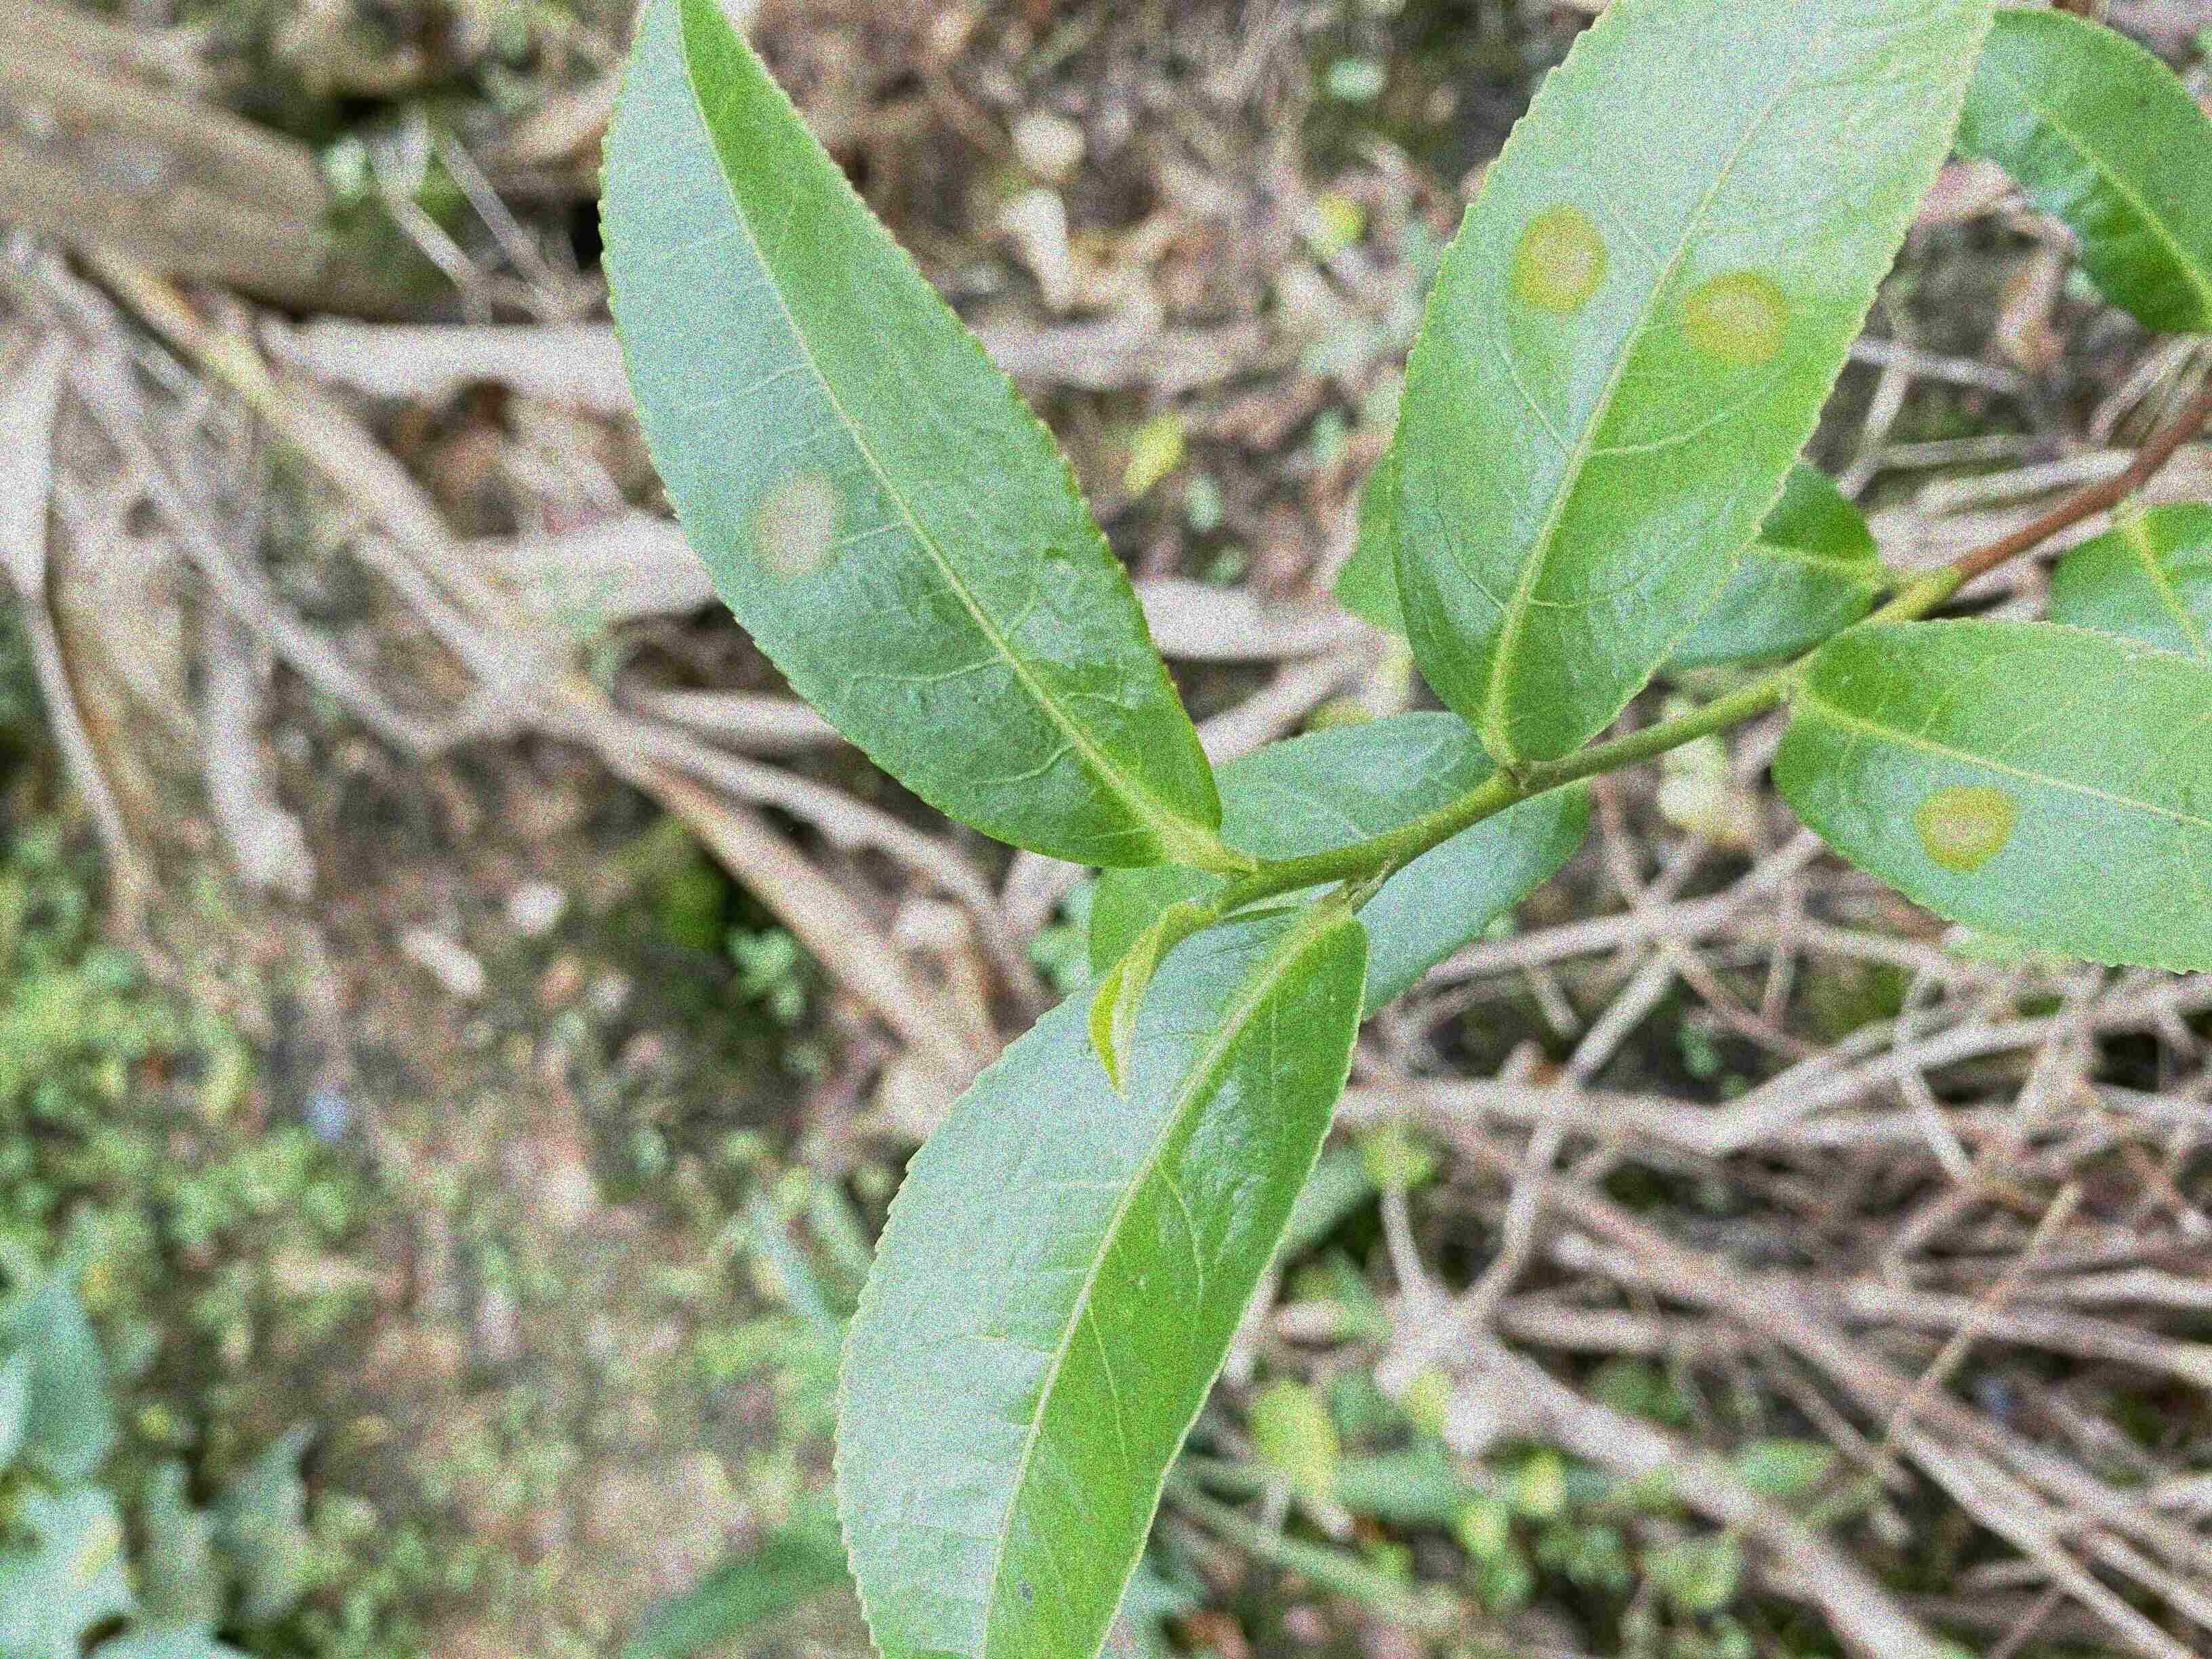chabing_high: (1386, 3, 2001, 762)
chabing_low: (596, 0, 1221, 871), (1770, 613, 2210, 976)
